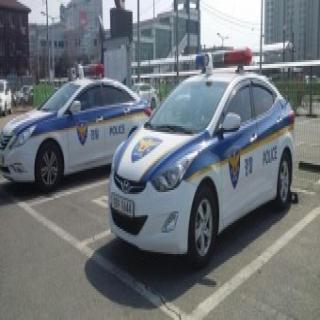Police_car: (108, 47, 295, 265), (0, 62, 150, 190)
